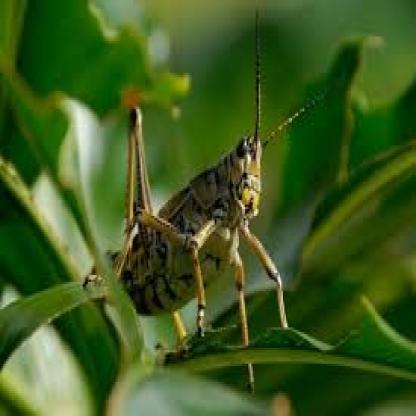grasshopper: (91, 80, 296, 380)
